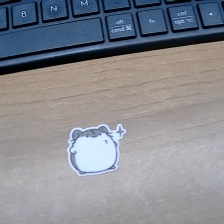mouse: (65, 123, 127, 177)
